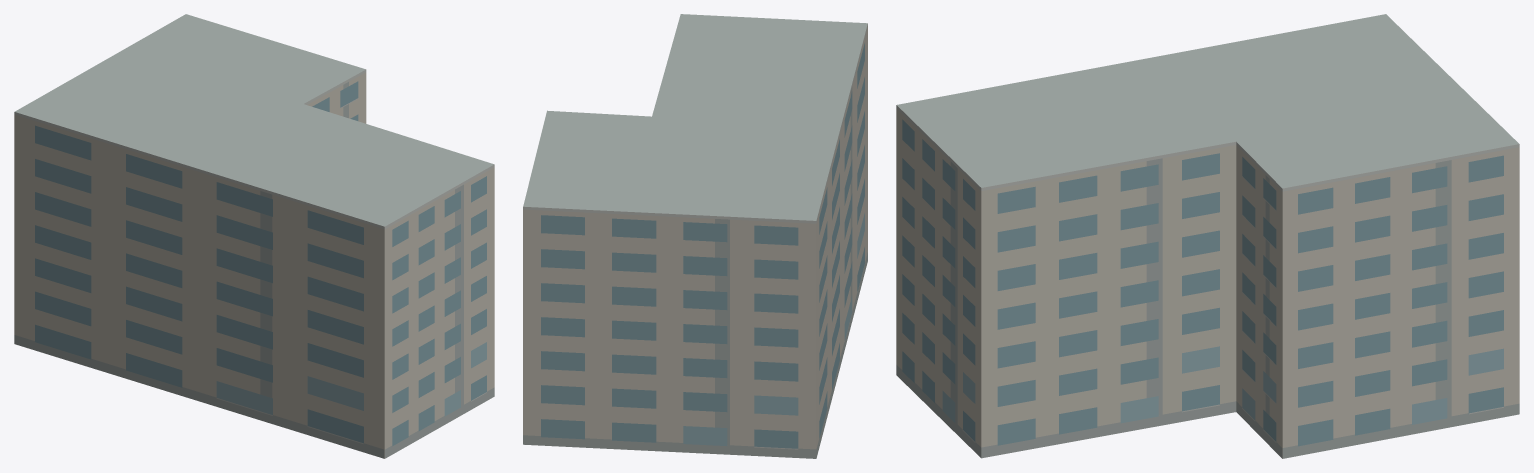
File: survey-upis-32873411.glb
The picture shows the model from 3 angles, left to right: view 1: azimuth 30°, elevation 25°; view 2: azimuth 150°, elevation 25°; view 3: azimuth 270°, elevation 25°; orthographic projection. The views are drawn at different scales.
Visible parts, largest first — view 1: survey-upis-32873411.tmp; view 2: survey-upis-32873411.tmp; view 3: survey-upis-32873411.tmp.
Part boxes in pixels (x1,y1,x2,y2): survey-upis-32873411.tmp: [14, 14, 494, 458]; survey-upis-32873411.tmp: [523, 14, 867, 458]; survey-upis-32873411.tmp: [896, 14, 1519, 458].
Size of the model in its own units: 28.54 by 20.6 by 43.04.
